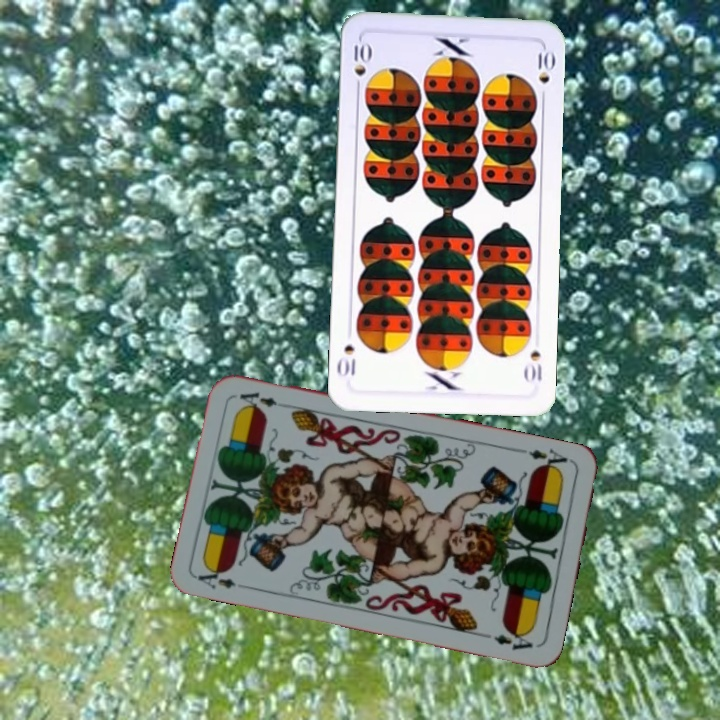EA: (516, 444, 574, 475), (193, 563, 238, 592)
S10: (350, 39, 371, 95), (526, 347, 545, 384)
